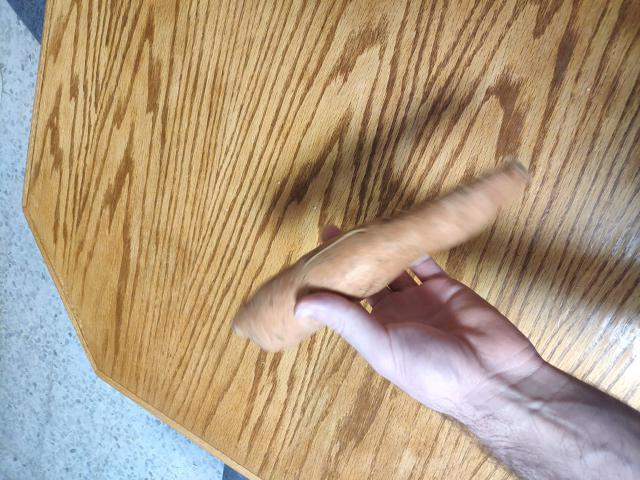sweet_potato: (201, 184, 522, 339)
